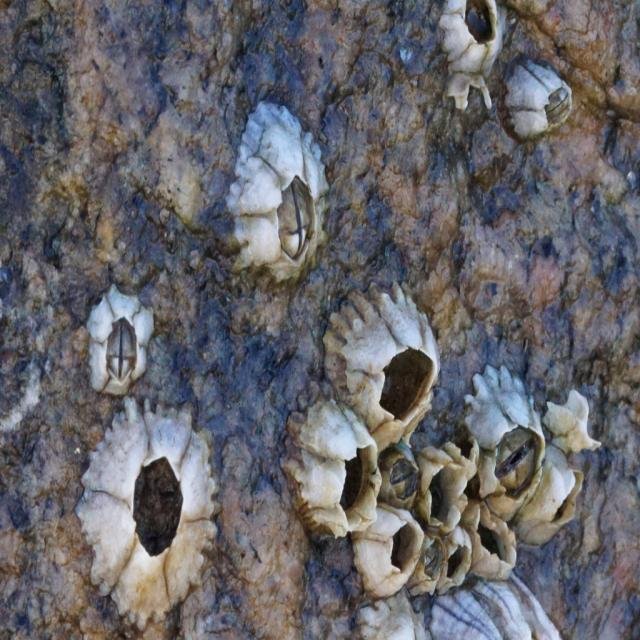barnacles: (76, 398, 220, 636), (226, 96, 330, 287), (331, 284, 439, 440), (292, 404, 378, 542), (477, 382, 545, 518), (83, 281, 157, 396), (352, 510, 423, 601), (435, 0, 508, 85), (527, 447, 585, 553), (501, 61, 575, 143), (417, 454, 468, 530), (472, 517, 521, 586), (439, 530, 474, 596), (415, 538, 445, 602)
